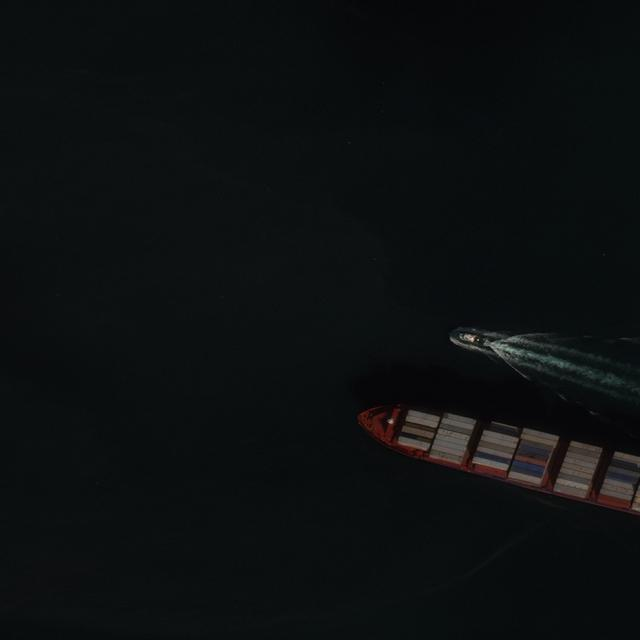Container Ship: (352, 401, 639, 520)
Other Ship: (457, 330, 492, 349)
